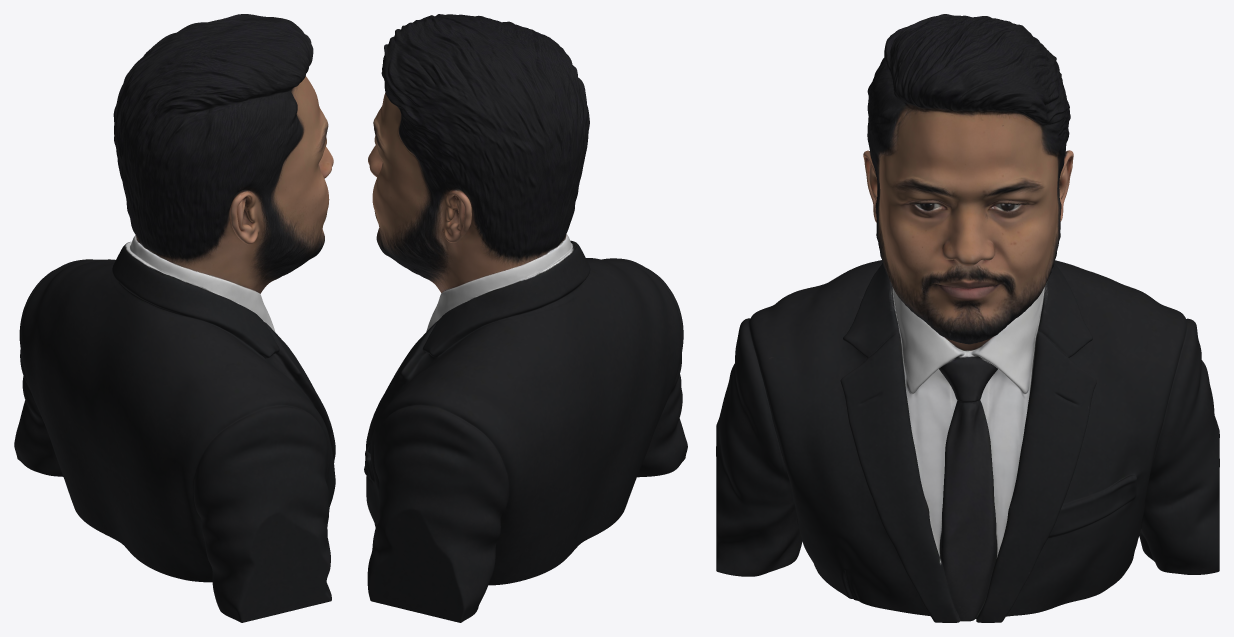
The model's file is kazi_3d.glb.
3 views of the same model, side by side, from view 1: azimuth 30°, elevation 25°; view 2: azimuth 150°, elevation 25°; view 3: azimuth 270°, elevation 25° (orthographic). The views are drawn at different scales.
Visible parts, largest first — view 1: tripo_node_a4913e97-ba86-4335-9396-b04836d3e84e; view 2: tripo_node_a4913e97-ba86-4335-9396-b04836d3e84e; view 3: tripo_node_a4913e97-ba86-4335-9396-b04836d3e84e.
Boxes of the visible parts, x1,y1,x2,y2 form: tripo_node_a4913e97-ba86-4335-9396-b04836d3e84e: (14, 14, 335, 622); tripo_node_a4913e97-ba86-4335-9396-b04836d3e84e: (364, 14, 687, 622); tripo_node_a4913e97-ba86-4335-9396-b04836d3e84e: (716, 14, 1219, 622).
Bounding box in the file's own units: 0.5157 × 1 × 0.8359.
Materials: 1 (1 with a texture image).
